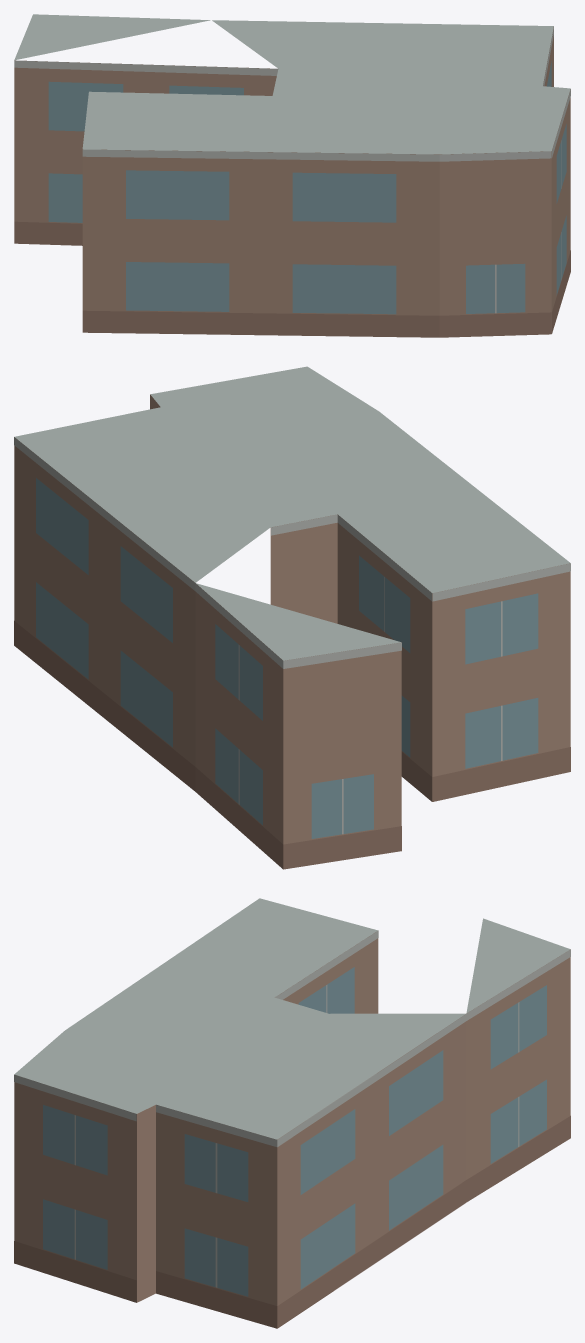
Rendered from survey-upis-32749957.glb.
3 renders of one model, top to bottom at view 1: azimuth 30°, elevation 25°; view 2: azimuth 150°, elevation 25°; view 3: azimuth 270°, elevation 25°, orthographic. The views are drawn at different scales.
Visible parts, largest first — view 1: survey-upis-32749957.tmp; view 2: survey-upis-32749957.tmp; view 3: survey-upis-32749957.tmp.
Boxes of the visible parts, <box> form: survey-upis-32749957.tmp: <box>14,14,570,337</box>; survey-upis-32749957.tmp: <box>14,366,570,869</box>; survey-upis-32749957.tmp: <box>14,898,570,1328</box>.
Bounding box in the file's own units: 16.74 × 6.1 × 16.3.
